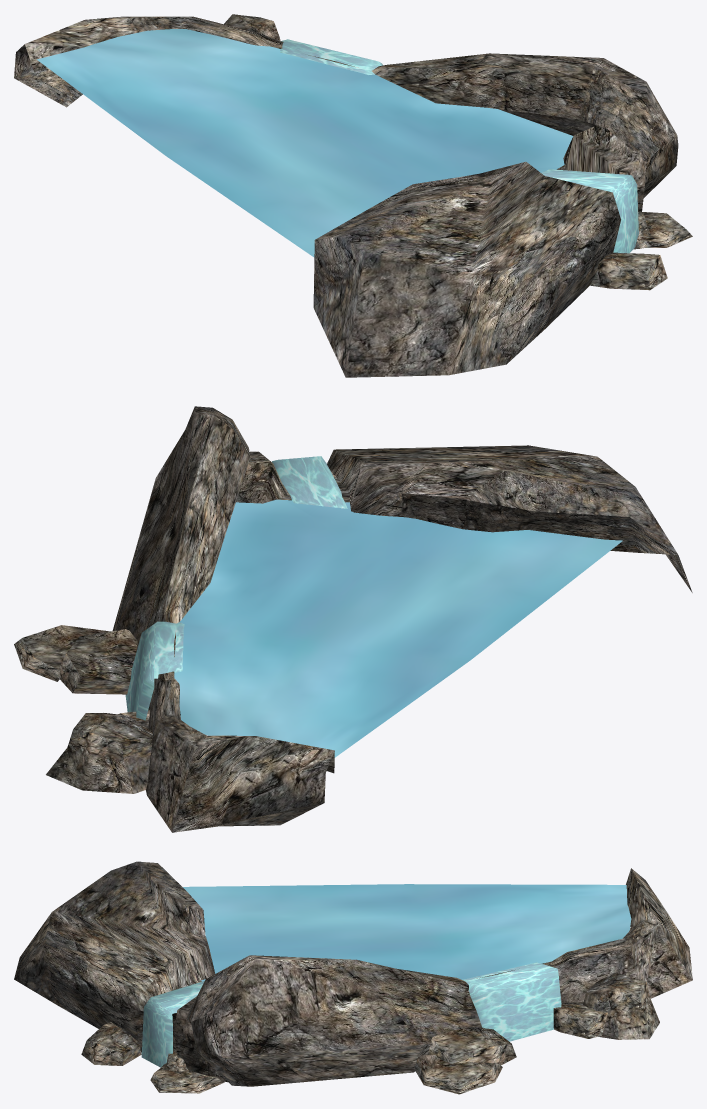
The model's file is pir_m_prp_cav_pool_med.fbx.
3 views of the same model, one above another, from view 1: azimuth 30°, elevation 25°; view 2: azimuth 150°, elevation 25°; view 3: azimuth 270°, elevation 25° (orthographic). The views are drawn at different scales.
Visible parts, largest first — view 1: blackbox1, pCube3, pCube56, pPlane57, pCube76, pPlane56, pCube80, pCube8; view 2: blackbox1, pCube56, pCube3, pCube8, pCube78, pPlane56, pPlane57, pCube79; view 3: pCube56, blackbox1, pCube3, pPlane56, pCube8, pCube78, pPlane57, pCube79, pCube76, pCube57, pCube80.
Boxes of the visible parts, bbox=[...] form: blackbox1: bbox=[37, 29, 573, 257]; pCube3: bbox=[313, 125, 645, 377]; pCube56: bbox=[14, 16, 678, 197]; pPlane57: bbox=[541, 169, 638, 253]; pCube76: bbox=[590, 252, 667, 290]; pPlane56: bbox=[280, 39, 382, 74]; pCube80: bbox=[640, 212, 692, 248]; pCube8: bbox=[224, 14, 280, 40]; blackbox1: bbox=[174, 499, 622, 757]; pCube56: bbox=[112, 406, 334, 832]; pCube3: bbox=[236, 445, 692, 592]; pCube8: bbox=[46, 713, 152, 793]; pCube78: bbox=[59, 629, 137, 694]; pPlane56: bbox=[125, 621, 184, 720]; pPlane57: bbox=[272, 456, 347, 508]; pCube79: bbox=[14, 625, 110, 681]; pCube56: bbox=[186, 868, 692, 1086]; blackbox1: bbox=[183, 884, 631, 981]; pCube3: bbox=[14, 861, 227, 1082]; pPlane56: bbox=[462, 962, 561, 1041]; pCube8: bbox=[583, 972, 659, 1039]; pCube78: bbox=[428, 1027, 516, 1065]; pPlane57: bbox=[141, 981, 204, 1067]; pCube79: bbox=[414, 1054, 502, 1094]; pCube76: bbox=[81, 1022, 141, 1065]; pCube57: bbox=[553, 1002, 607, 1038]; pCube80: bbox=[150, 1065, 224, 1093].
Bounding box in the file's own units: 4186 × 1457 × 6896.
Materials: 3 (3 with a texture image).
